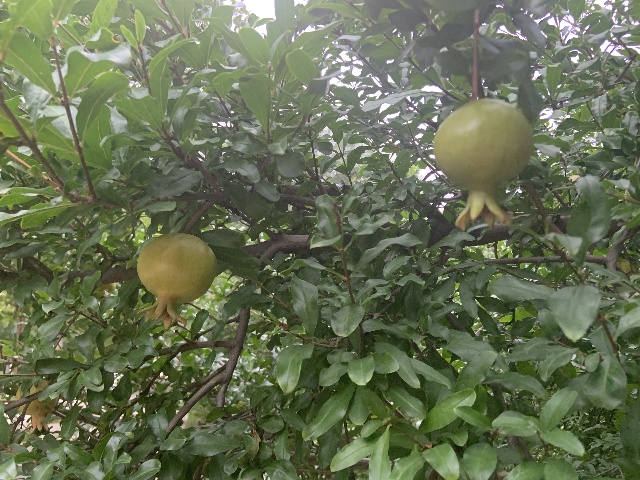mid-growth: (433, 97, 533, 230), (136, 232, 217, 330), (16, 378, 58, 436)
